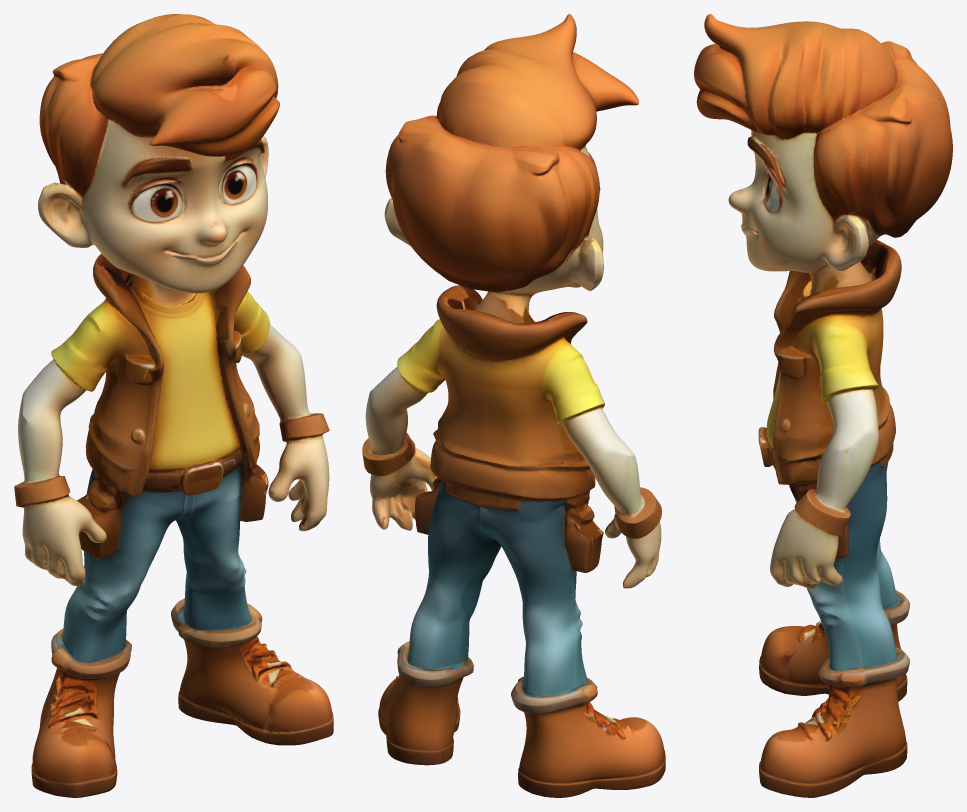
Rendered from CartoonHero.fbx.
3 views of the same model, side by side, from view 1: azimuth 30°, elevation 25°; view 2: azimuth 150°, elevation 25°; view 3: azimuth 270°, elevation 25° (orthographic). The views are drawn at different scales.
Visible parts, largest first — view 1: model; view 2: model; view 3: model.
Boxes of the visible parts, bbox=[...] form: model: bbox=[14, 14, 333, 797]; model: bbox=[362, 14, 665, 797]; model: bbox=[694, 14, 952, 797].
Bounding box in the file's own units: 117 × 268 × 88.07.
1 material, 1 textured.
